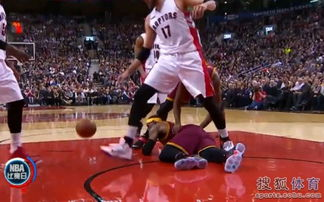fall: (133, 109, 251, 175)
